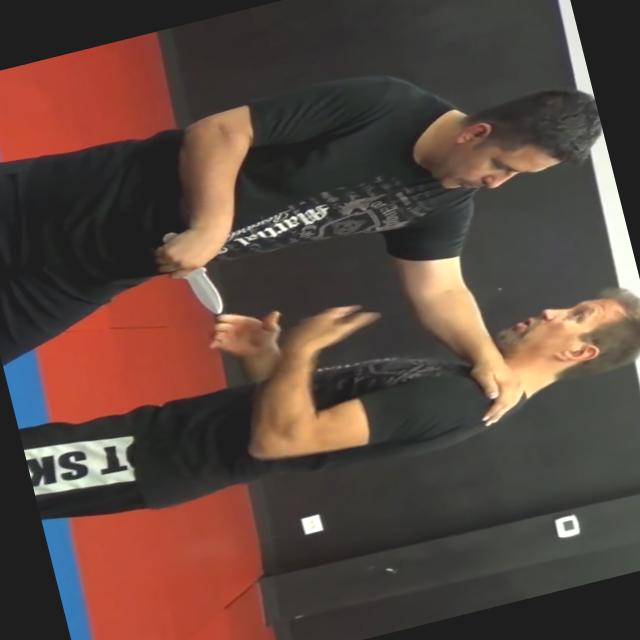knife: (148, 220, 232, 326)
